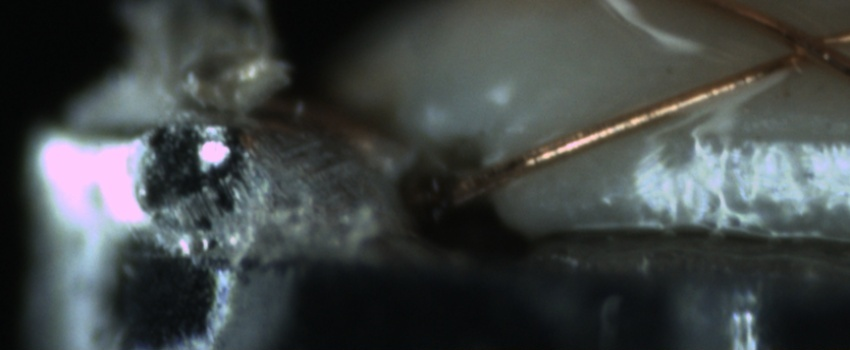CL: (762, 17, 840, 75)
DL: (690, 108, 850, 172)
